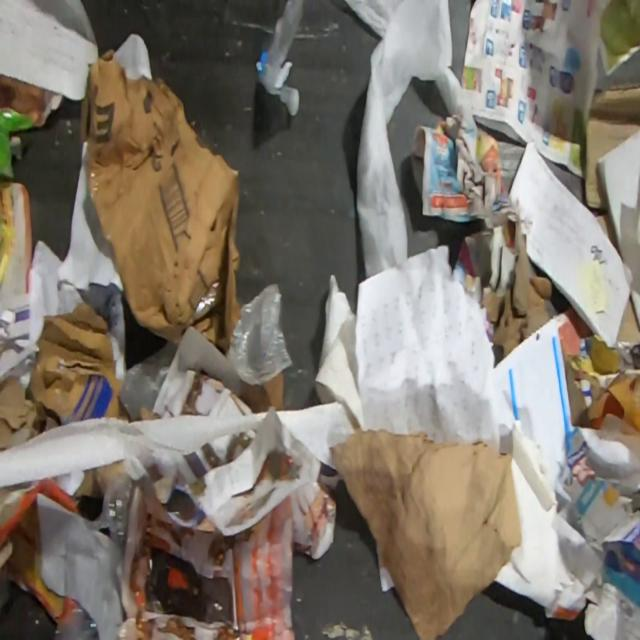cardboard: (78, 49, 241, 352), (29, 302, 133, 426), (572, 474, 640, 608), (585, 81, 640, 210), (616, 296, 640, 346), (596, 213, 619, 250)
soft_plastic: (226, 496, 297, 640), (229, 283, 294, 387), (255, 0, 306, 117), (86, 471, 136, 563), (54, 608, 100, 639)
